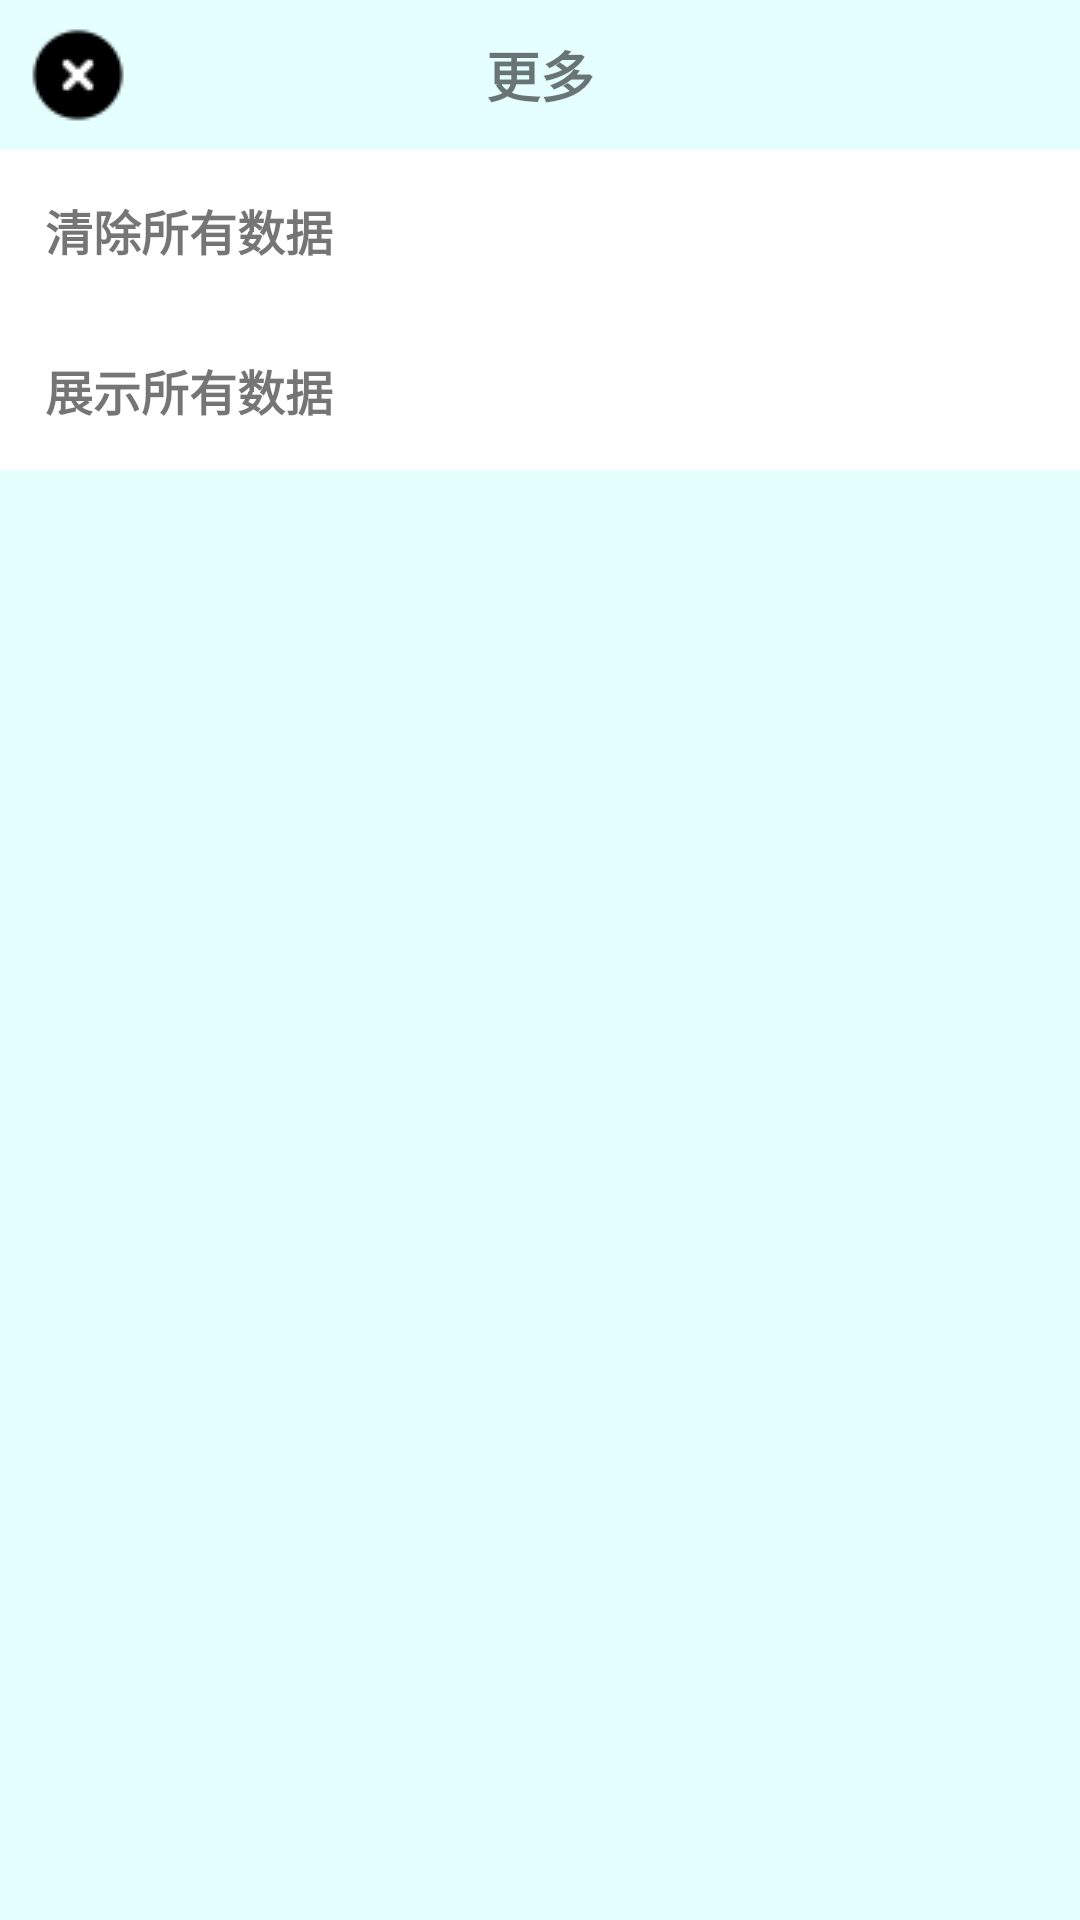

Where icons sit on this 1080px x 1920px app screen, as (x1, y1, x2, y2):
ih error: (32, 29, 124, 121)
